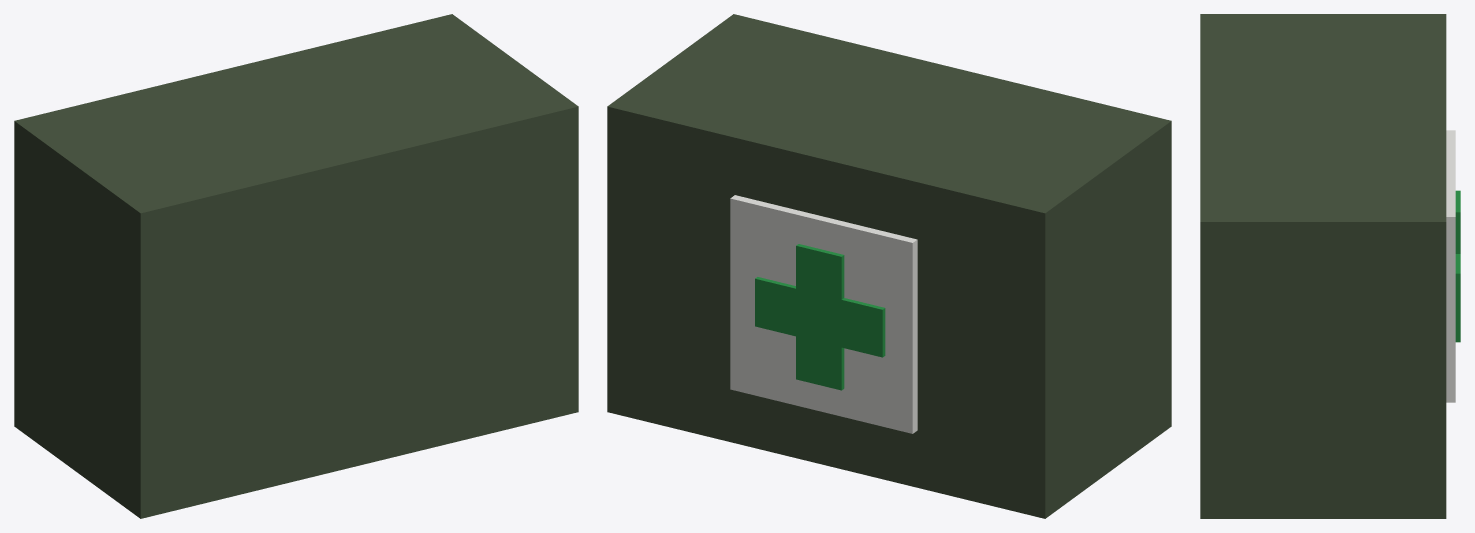
Rendered from Medkit.fbx.
The picture shows the model from 3 angles, left to right: view 1: azimuth 30°, elevation 25°; view 2: azimuth 150°, elevation 25°; view 3: azimuth 270°, elevation 25°; orthographic projection. The views are drawn at different scales.
Parts seen in each view (by area): view 1: Bag; view 2: Bag, CrossPanel, CrossH, CrossV; view 3: Bag, CrossPanel, CrossV, CrossH.
Part boxes in pixels (bbox=[...]): Bag: bbox=[14, 14, 578, 518]; Bag: bbox=[607, 14, 1171, 518]; CrossPanel: bbox=[730, 195, 917, 433]; CrossH: bbox=[755, 277, 885, 357]; CrossV: bbox=[796, 244, 844, 390]; Bag: bbox=[1200, 14, 1446, 518]; CrossPanel: bbox=[1446, 130, 1455, 402]; CrossV: bbox=[1455, 190, 1460, 342]; CrossH: bbox=[1455, 254, 1460, 319].
Bounding box in the file's own units: 24 × 12.7 × 16.
